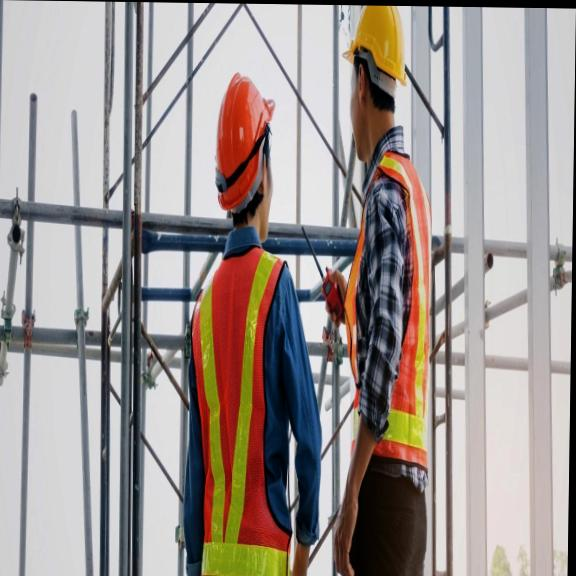safety_vest: (191, 251, 320, 576), (339, 148, 446, 487)
